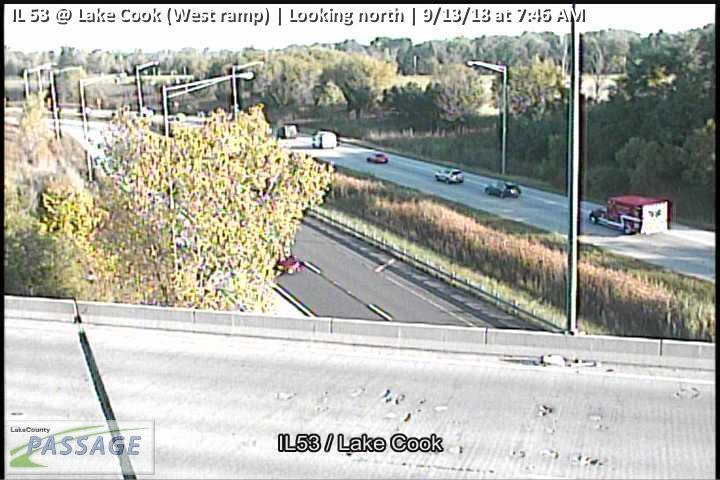SUV: (435, 168, 465, 185)
Sedan: (485, 182, 522, 200), (367, 152, 388, 164)
Truck: (588, 195, 671, 237), (312, 130, 337, 149)
